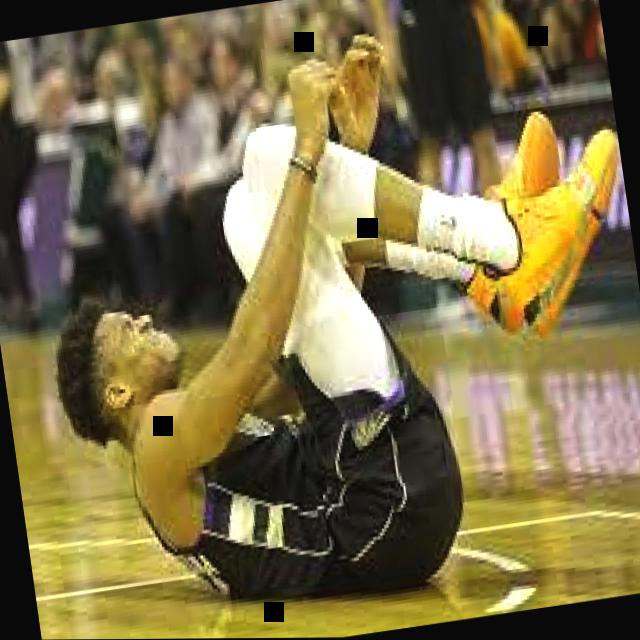Fall-Detected: (11, 0, 640, 636)
